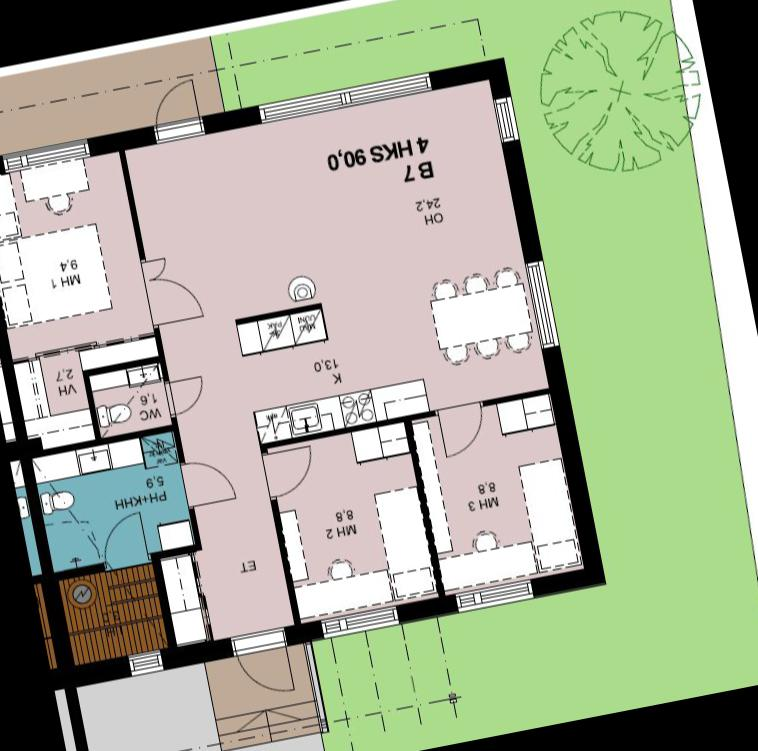door: (228, 624, 300, 704), (144, 72, 207, 140), (142, 268, 208, 330), (173, 450, 240, 511), (430, 397, 492, 459), (259, 442, 320, 499), (159, 371, 211, 420), (137, 252, 170, 280)
window: (251, 64, 437, 128), (522, 256, 564, 356), (0, 132, 96, 173), (450, 574, 540, 614), (314, 601, 404, 636), (122, 644, 173, 680), (489, 90, 522, 144)
